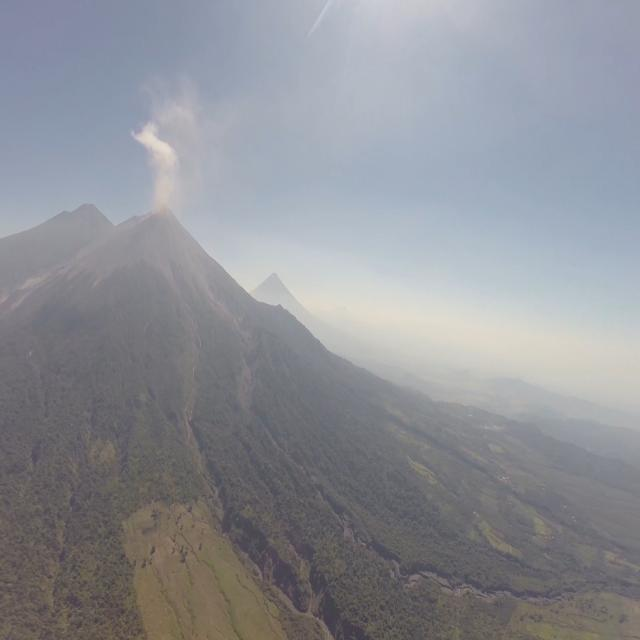Plume: (132, 120, 184, 214)
Summit: (130, 198, 182, 234)
